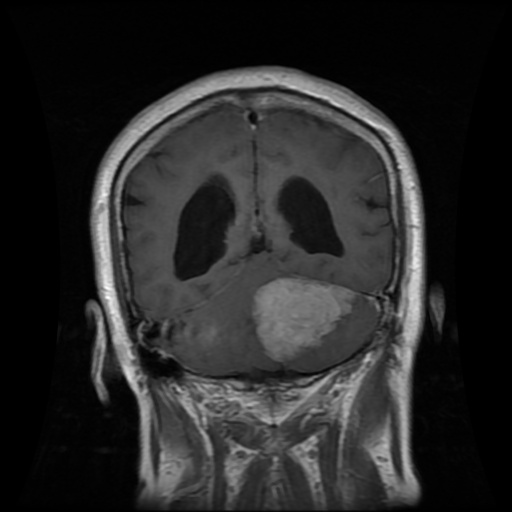meningioma: (254, 278, 356, 362)
